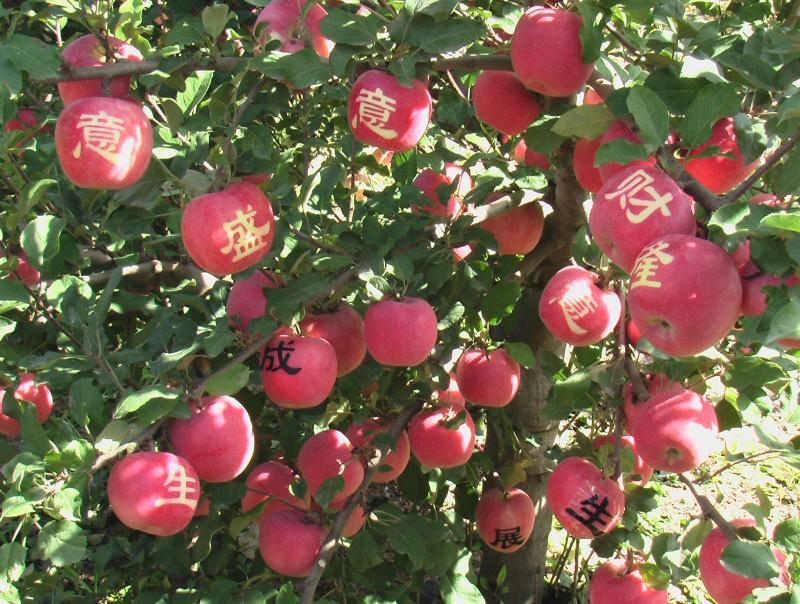apple: (624, 234, 745, 358), (180, 179, 274, 280), (56, 96, 152, 188), (107, 451, 200, 537), (629, 388, 720, 473), (167, 394, 251, 484), (50, 34, 150, 108), (258, 324, 342, 410), (515, 7, 593, 97), (347, 69, 432, 151), (543, 458, 623, 541), (537, 266, 619, 346), (363, 295, 433, 367), (296, 429, 362, 501), (451, 344, 521, 408), (407, 406, 476, 468), (257, 507, 320, 573), (474, 484, 535, 552), (474, 198, 545, 255), (1, 376, 54, 442), (588, 562, 668, 603), (14, 381, 52, 424)
